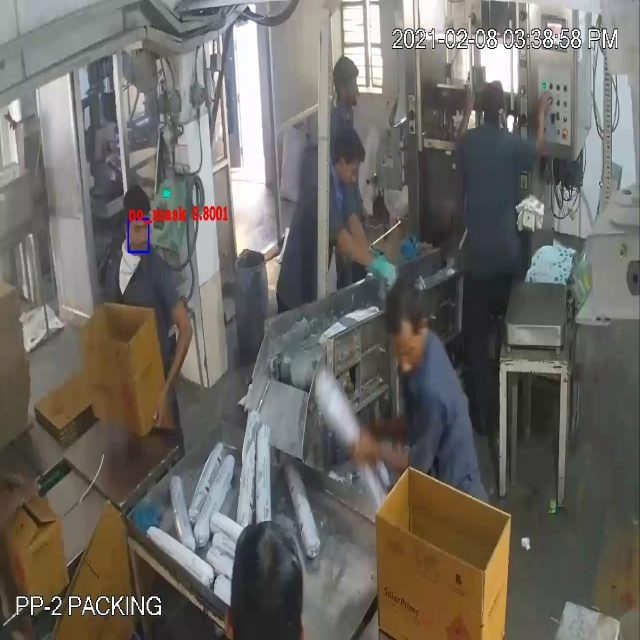Guantes: (328, 222, 400, 290)
Sin_guantes: (146, 288, 196, 413), (340, 427, 424, 487), (528, 76, 554, 163)
